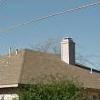Chimney: (53, 31, 80, 69)
